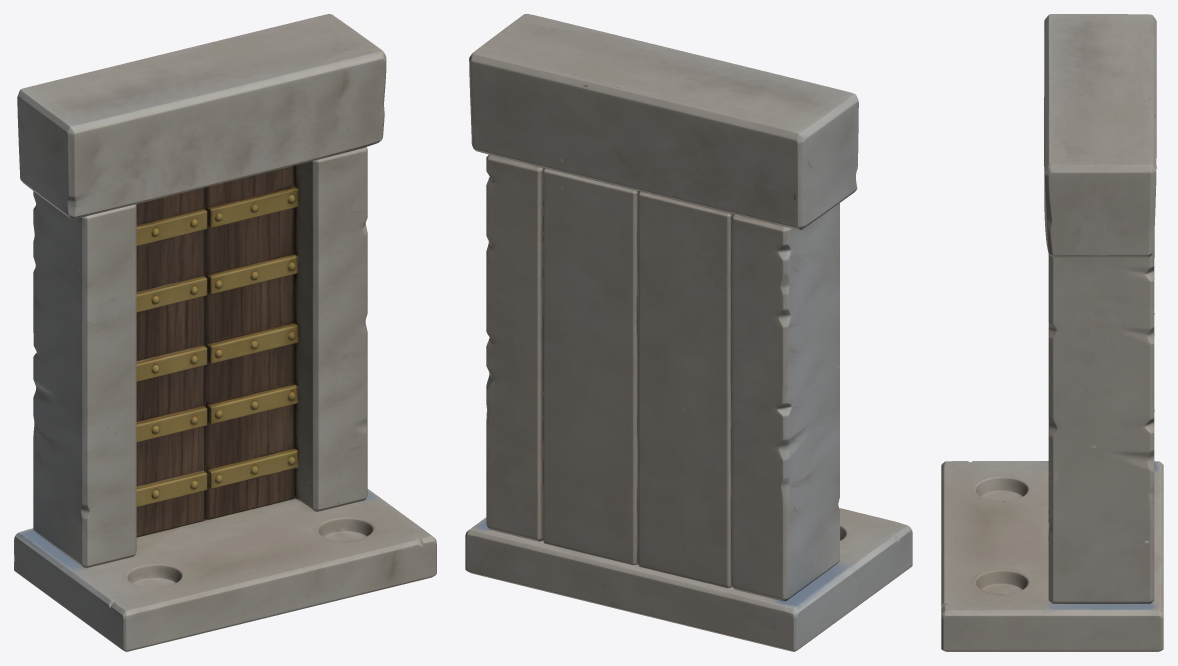
Rendered from Monumental_Gate_Entrance_opt.glb.
3 views of the same model, side by side, from view 1: azimuth 30°, elevation 25°; view 2: azimuth 150°, elevation 25°; view 3: azimuth 270°, elevation 25° (orthographic). The views are drawn at different scales.
Visible parts, largest first — view 1: material; view 2: material; view 3: material.
Boxes of the visible parts, x1,y1,x2,y2 form: material: [14, 14, 436, 651]; material: [465, 14, 912, 651]; material: [941, 14, 1163, 651].
Size of the model in its own units: 0.6509 by 0.9539 by 0.3943.
Materials: 1 (1 with a texture image).
